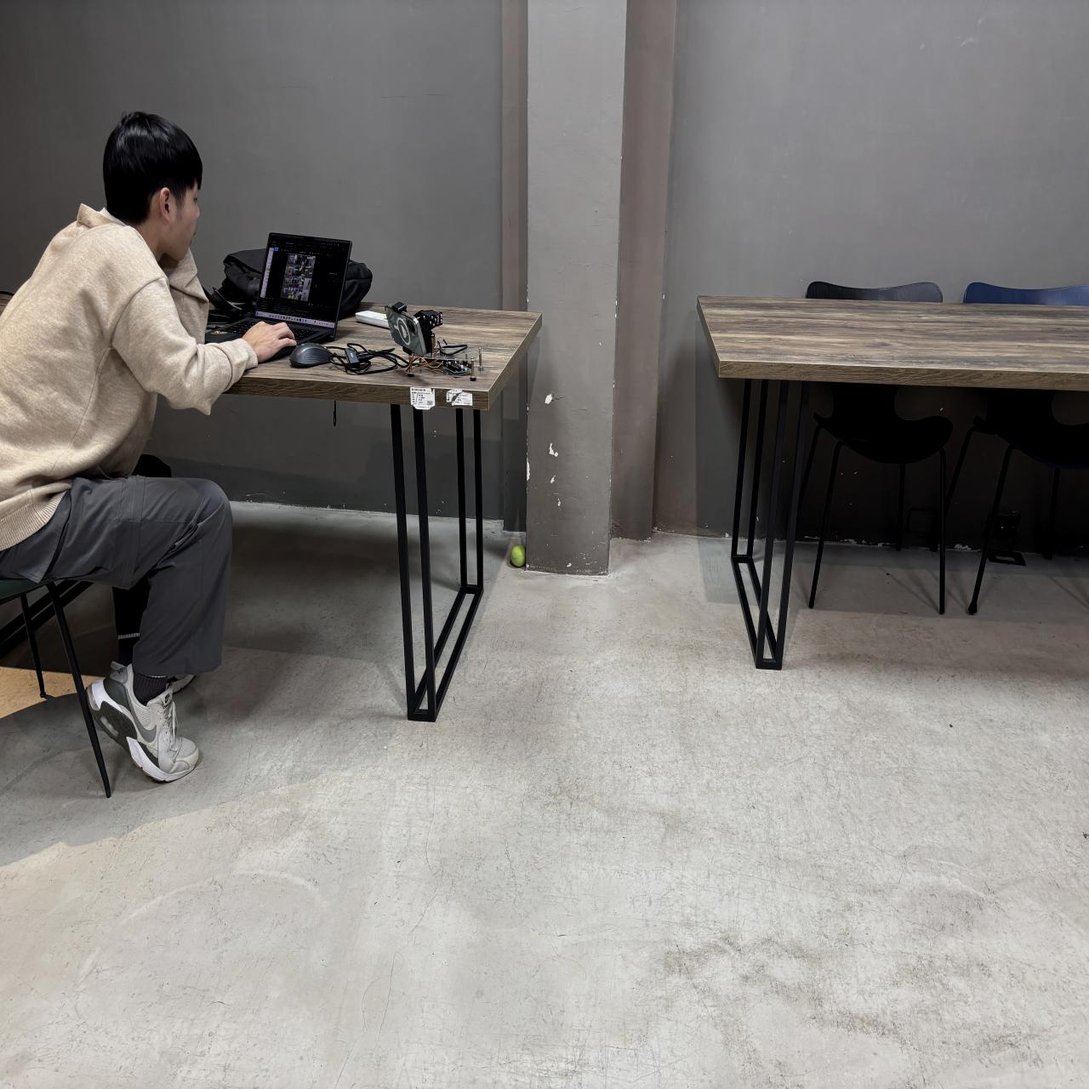tennisball: (510, 544, 525, 567)
